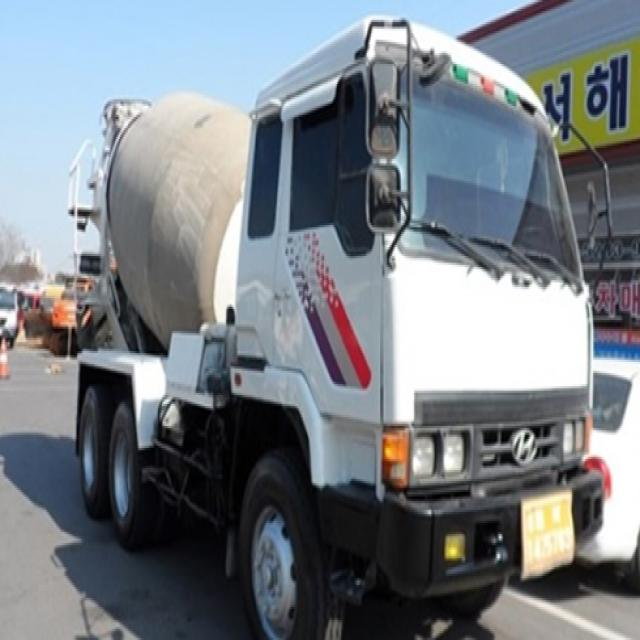Mixer Truck: (68, 15, 604, 640)
